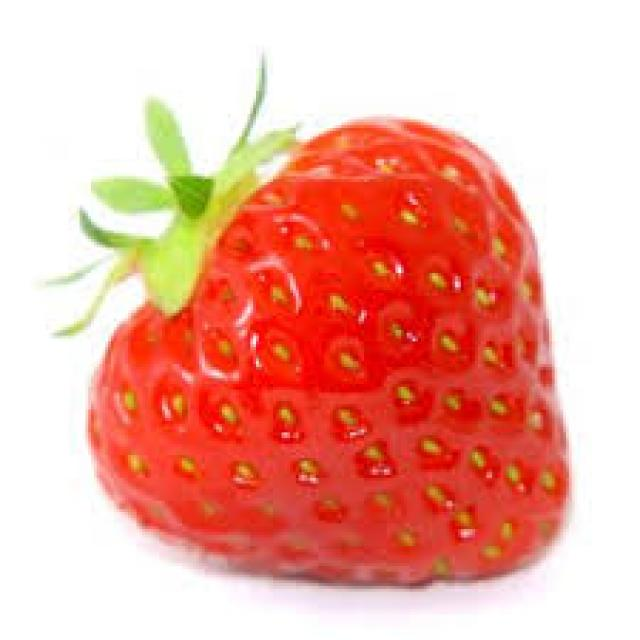organic waste: (37, 48, 569, 586)
